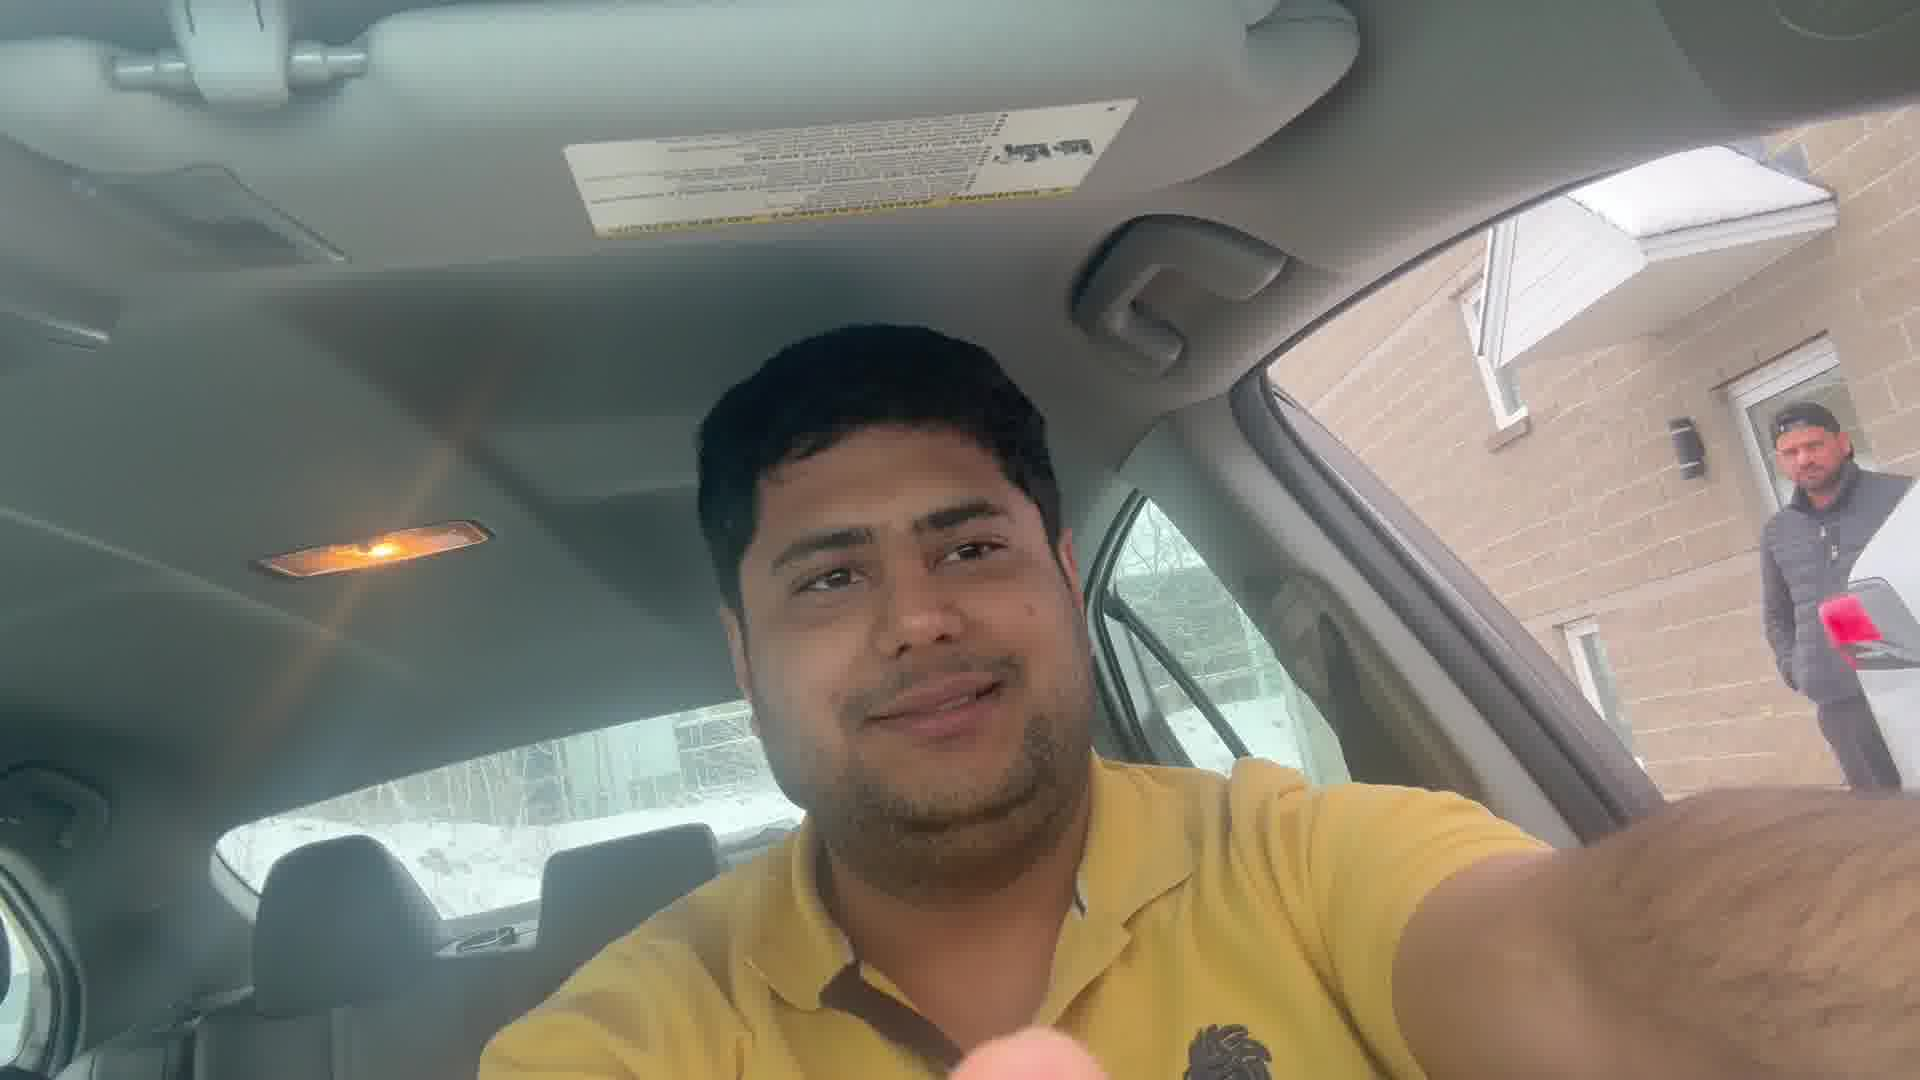no_seatbelt: (1004, 593, 1407, 1044)
